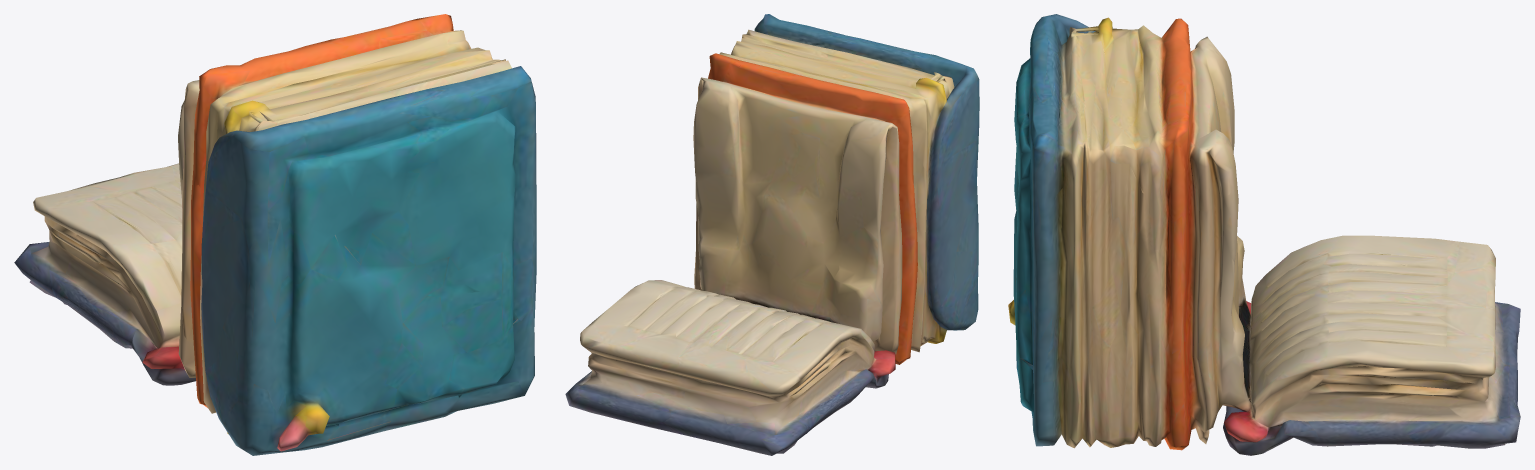
The model's file is book.glb.
3 renders of one model, left to right at view 1: azimuth 30°, elevation 25°; view 2: azimuth 150°, elevation 25°; view 3: azimuth 270°, elevation 25°, orthographic. The views are drawn at different scales.
Parts seen in each view (by area): view 1: tripo_node_c544ae15-5075-4ea0-bd5a-f54b1328f5d7; view 2: tripo_node_c544ae15-5075-4ea0-bd5a-f54b1328f5d7; view 3: tripo_node_c544ae15-5075-4ea0-bd5a-f54b1328f5d7.
Part boxes in pixels (x1,y1,x2,y2): tripo_node_c544ae15-5075-4ea0-bd5a-f54b1328f5d7: (14,14,536,455); tripo_node_c544ae15-5075-4ea0-bd5a-f54b1328f5d7: (565,14,979,455); tripo_node_c544ae15-5075-4ea0-bd5a-f54b1328f5d7: (1008,14,1520,455).
Bounding box in the file's own units: 0.6311 × 0.6986 × 1.
Materials: 1 (1 with a texture image).
